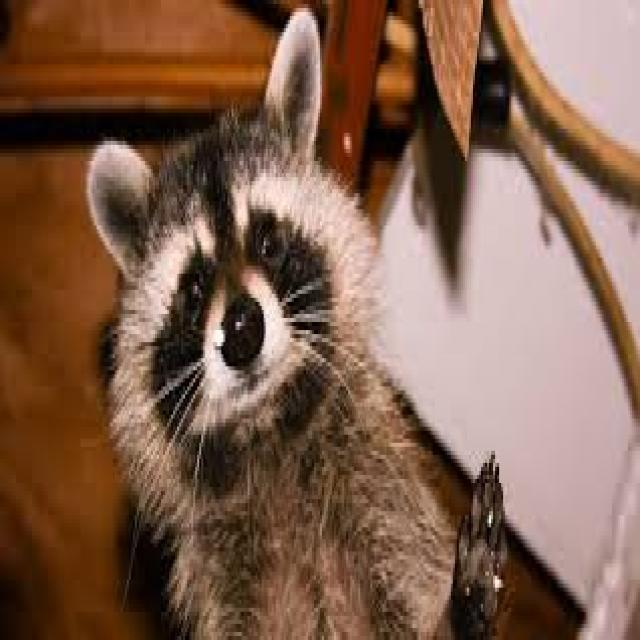Raccoon: (86, 6, 505, 640)
